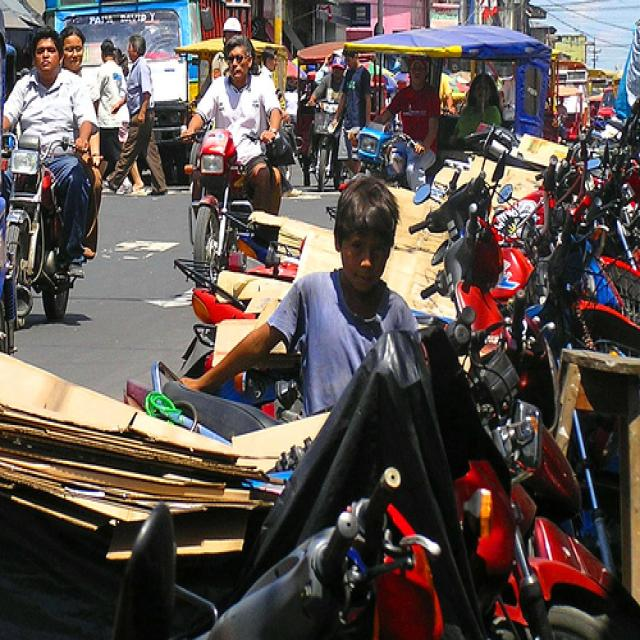motor: (252, 321, 583, 523), (105, 468, 449, 633), (455, 461, 640, 631), (495, 160, 604, 353), (0, 133, 90, 354), (553, 149, 640, 310), (411, 199, 516, 328), (174, 126, 266, 263), (124, 359, 277, 439), (572, 147, 640, 238), (345, 125, 418, 188), (305, 97, 344, 192)
